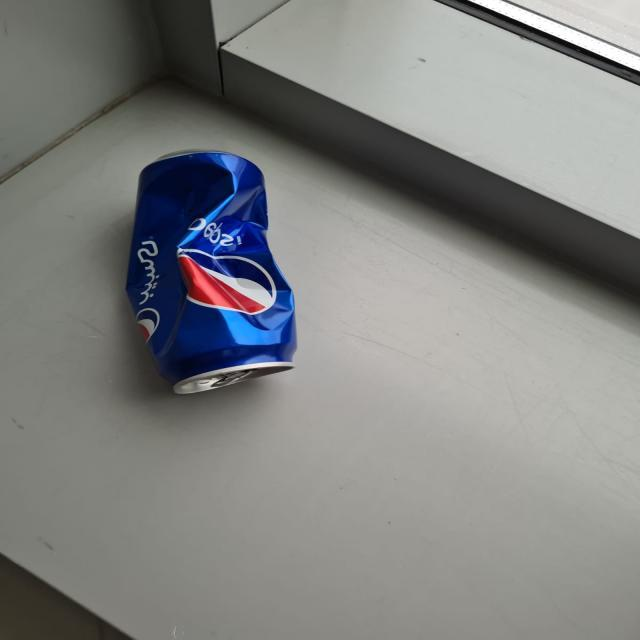can: (122, 143, 311, 403)
